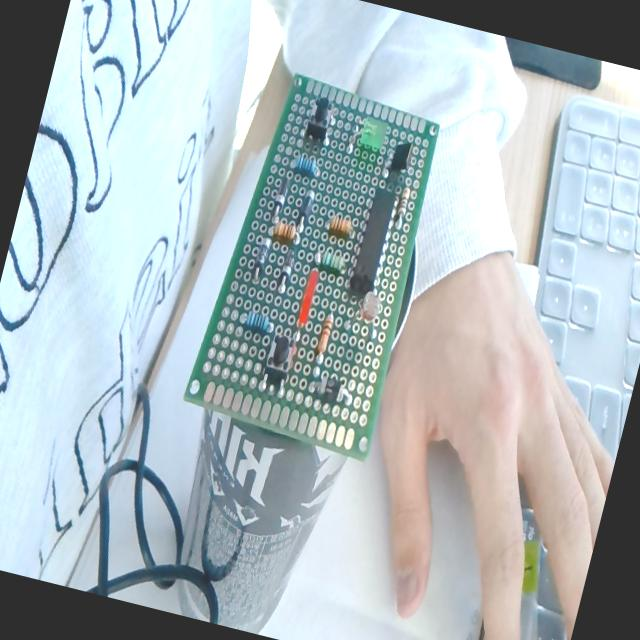IC: (346, 188, 398, 302)
cds: (344, 282, 391, 340)
diode: (307, 370, 348, 408), (248, 236, 272, 283), (269, 174, 291, 222), (294, 188, 316, 232), (276, 250, 296, 295)
led: (284, 272, 320, 373), (341, 110, 392, 166)
resistor: (238, 308, 274, 341), (314, 312, 334, 358), (326, 213, 353, 240), (319, 247, 346, 273), (272, 218, 298, 244), (394, 186, 411, 223), (294, 153, 318, 178)
switch: (258, 328, 298, 395), (303, 94, 337, 144)
transistor: (378, 129, 419, 188)
